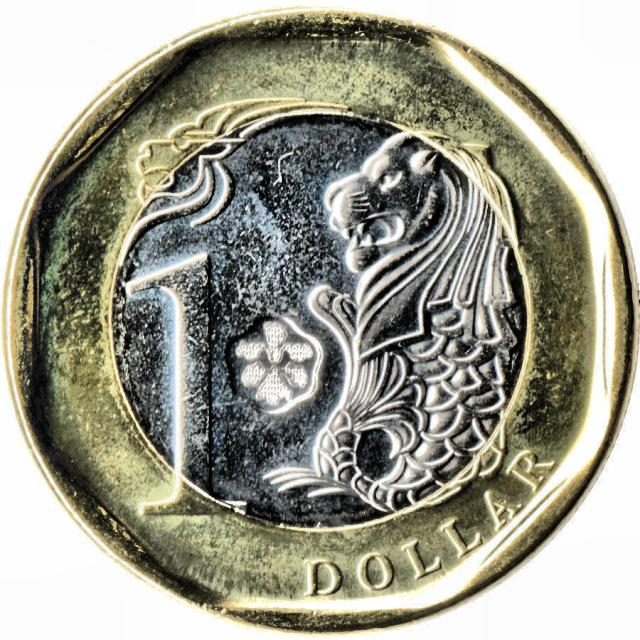coin: (4, 9, 637, 631)
